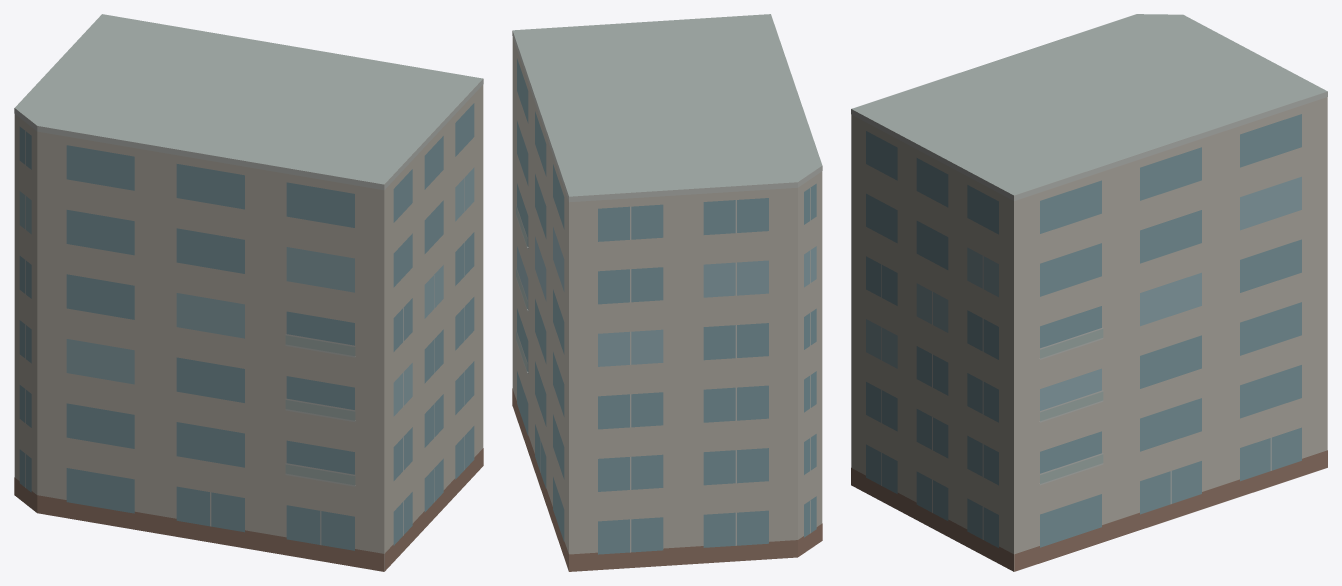
Rendered from survey-upis-32740781.glb.
3 views of the same model, side by side, from view 1: azimuth 30°, elevation 25°; view 2: azimuth 150°, elevation 25°; view 3: azimuth 270°, elevation 25° (orthographic). The views are drawn at different scales.
Parts seen in each view (by area): view 1: survey-upis-32740781.tmp; view 2: survey-upis-32740781.tmp; view 3: survey-upis-32740781.tmp.
Boxes of the visible parts, left/top/right/bottom form: survey-upis-32740781.tmp: left=14, top=14, right=483, bottom=571; survey-upis-32740781.tmp: left=512, top=14, right=822, bottom=571; survey-upis-32740781.tmp: left=851, top=14, right=1327, bottom=571.
Size of the model in its own units: 17.19 by 16.6 by 19.07.
